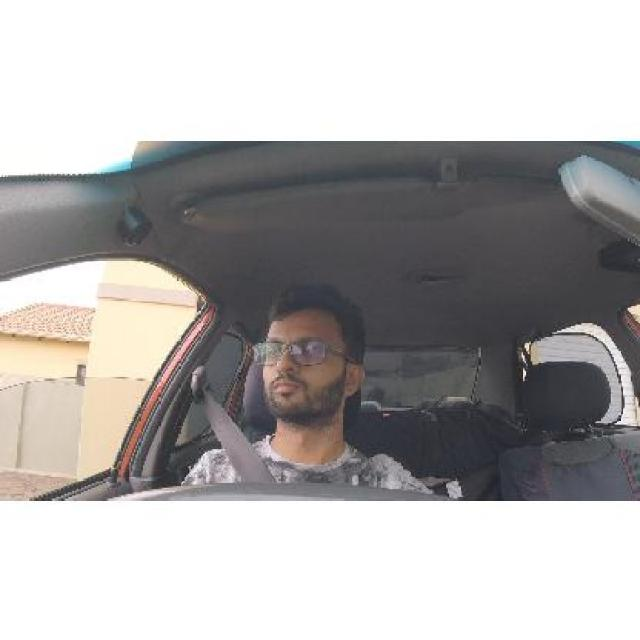person: (254, 272, 372, 424)
